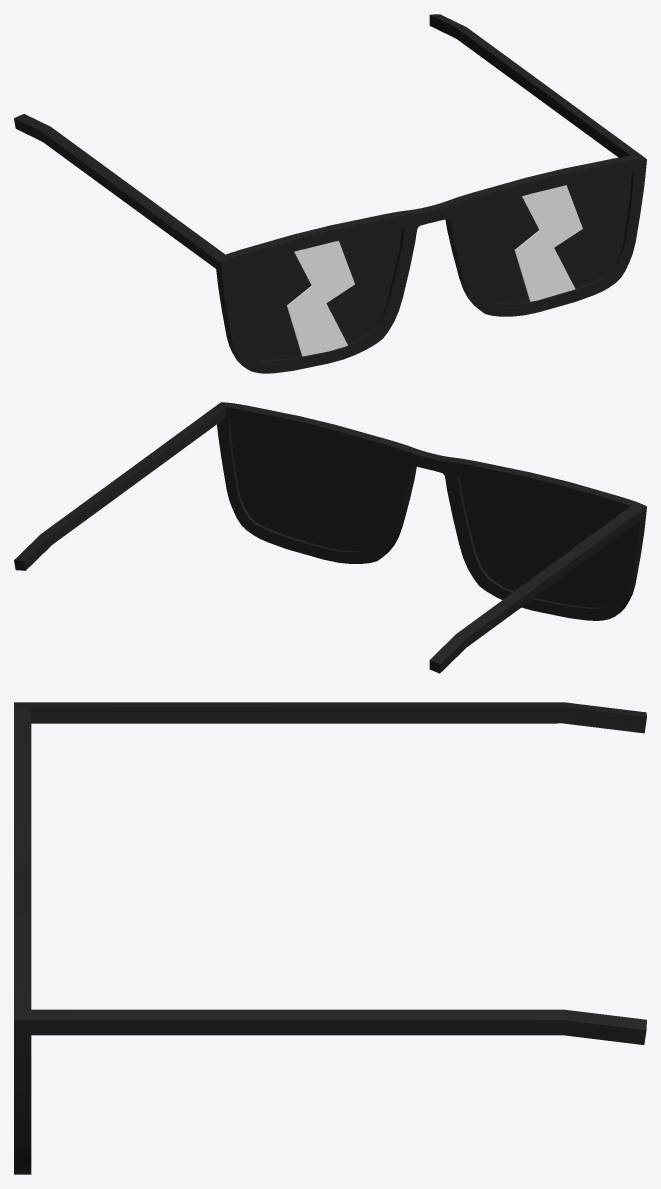
File: sunglasses.glb
3 views of the same model, one above another, from view 1: azimuth 30°, elevation 25°; view 2: azimuth 150°, elevation 25°; view 3: azimuth 270°, elevation 25° (orthographic). The views are drawn at different scales.
Visible parts, largest first — view 1: Plane.100; view 2: Plane.100; view 3: Plane.100.
Part boxes in pixels (x1=…): Plane.100: x1=14, y1=14, x2=646, y2=373; Plane.100: x1=14, y1=402, x2=646, y2=673; Plane.100: x1=14, y1=702, x2=646, y2=1174.
Bounding box in the file's own units: 2 × 0.5924 × 1.68.
Materials: 1 (1 with a texture image).
